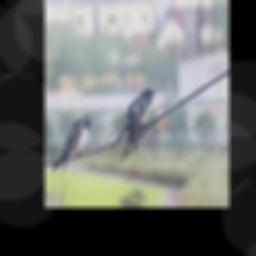Swallow: (110, 88, 159, 164), (52, 115, 92, 177)
